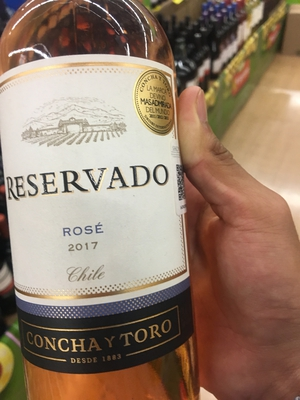reservado rose: (1, 9, 199, 400)
